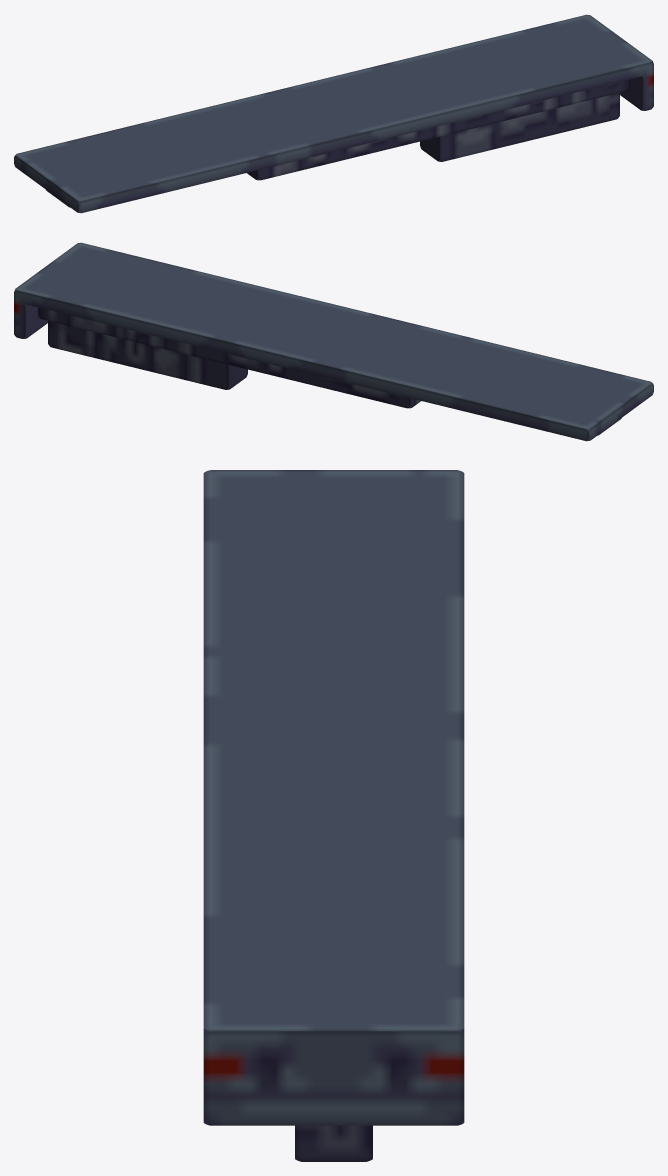
File: vehicles_ground_truck_semi_flatbed.obj
3 renders of one model, top to bottom at view 1: azimuth 30°, elevation 25°; view 2: azimuth 150°, elevation 25°; view 3: azimuth 270°, elevation 25°, orthographic. The views are drawn at different scales.
Parts seen in each view (by area): view 1: cuboid; view 2: cuboid; view 3: cuboid.
Boxes of the visible parts, x1,y1,x2,y2 form: cuboid: [14, 14, 653, 213]; cuboid: [14, 242, 653, 441]; cuboid: [203, 470, 464, 1161].
Bounding box in the file's own units: 3.19 × 0.375 × 0.625.
